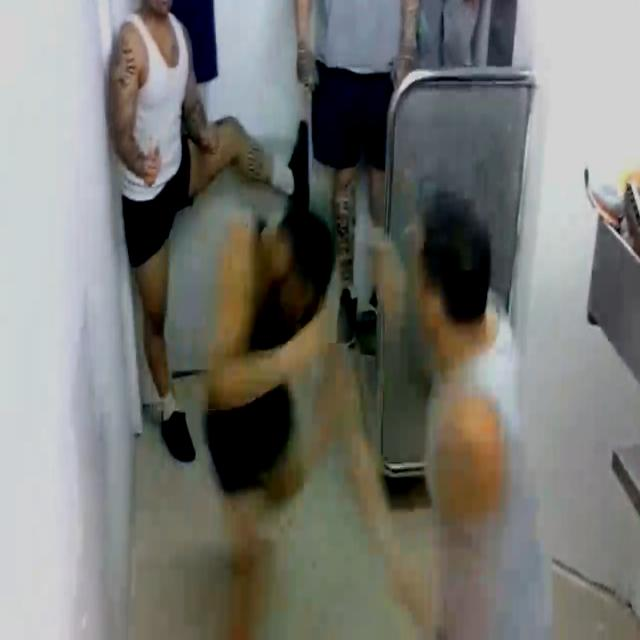fight: (204, 185, 543, 640)
